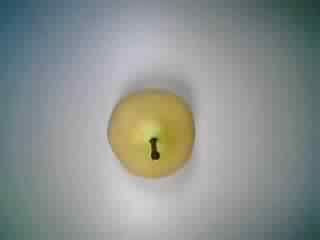pear: (99, 82, 205, 183)
